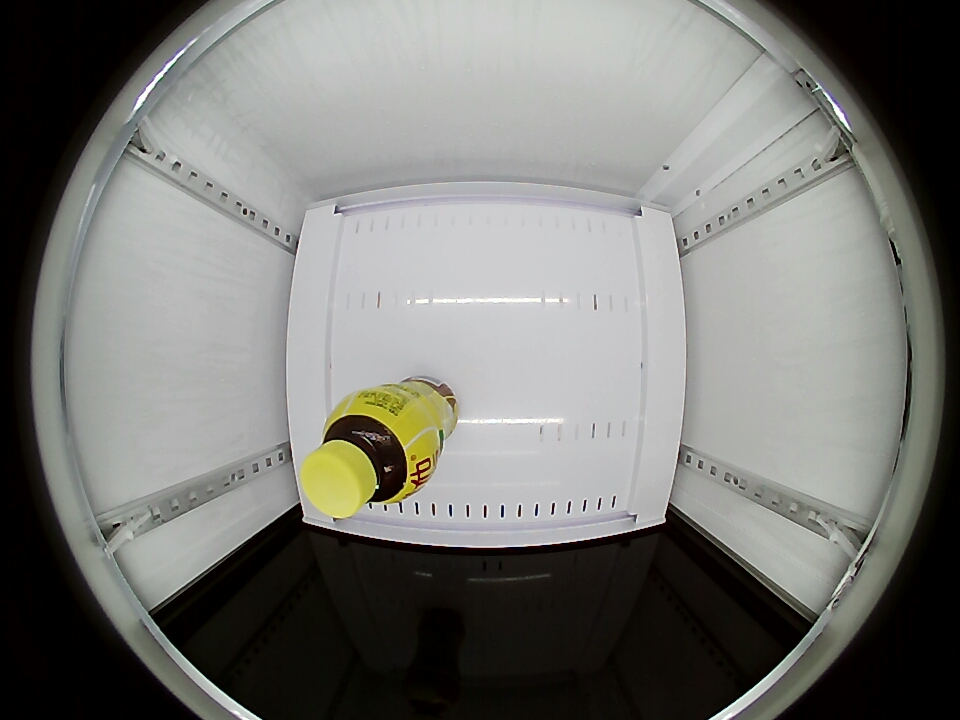weitaningmeng-bottle: (300, 394, 428, 519)
